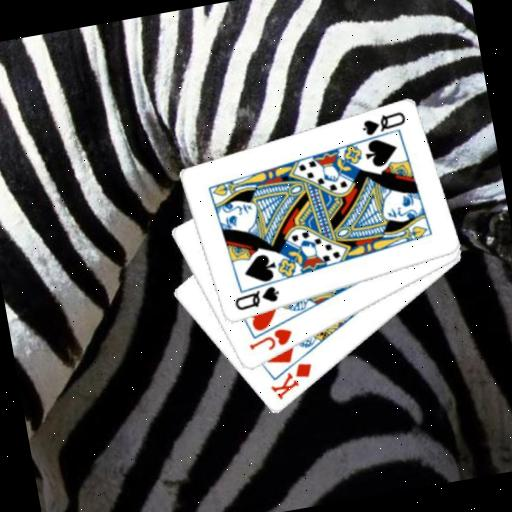JH: (243, 324, 295, 356)
KD: (263, 358, 318, 403)
QS: (229, 282, 282, 314), (356, 107, 408, 138)
